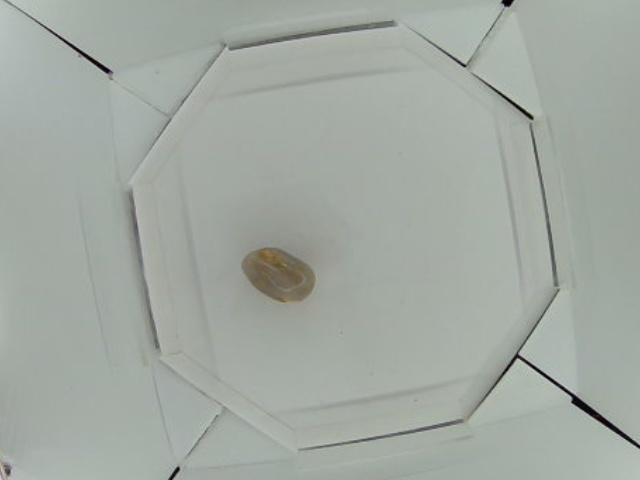Pebble: (240, 249, 316, 304)
